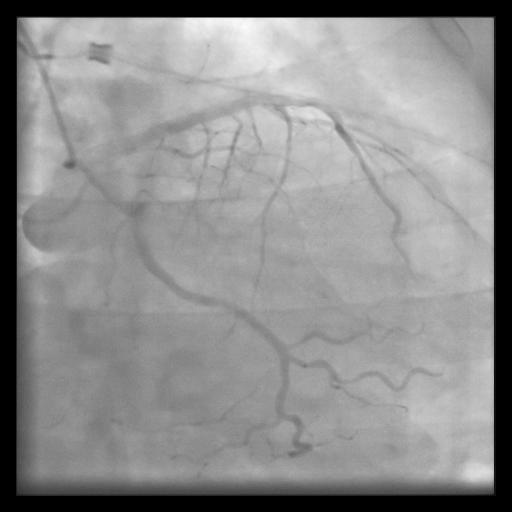Stenosis: (217, 296, 237, 315)
